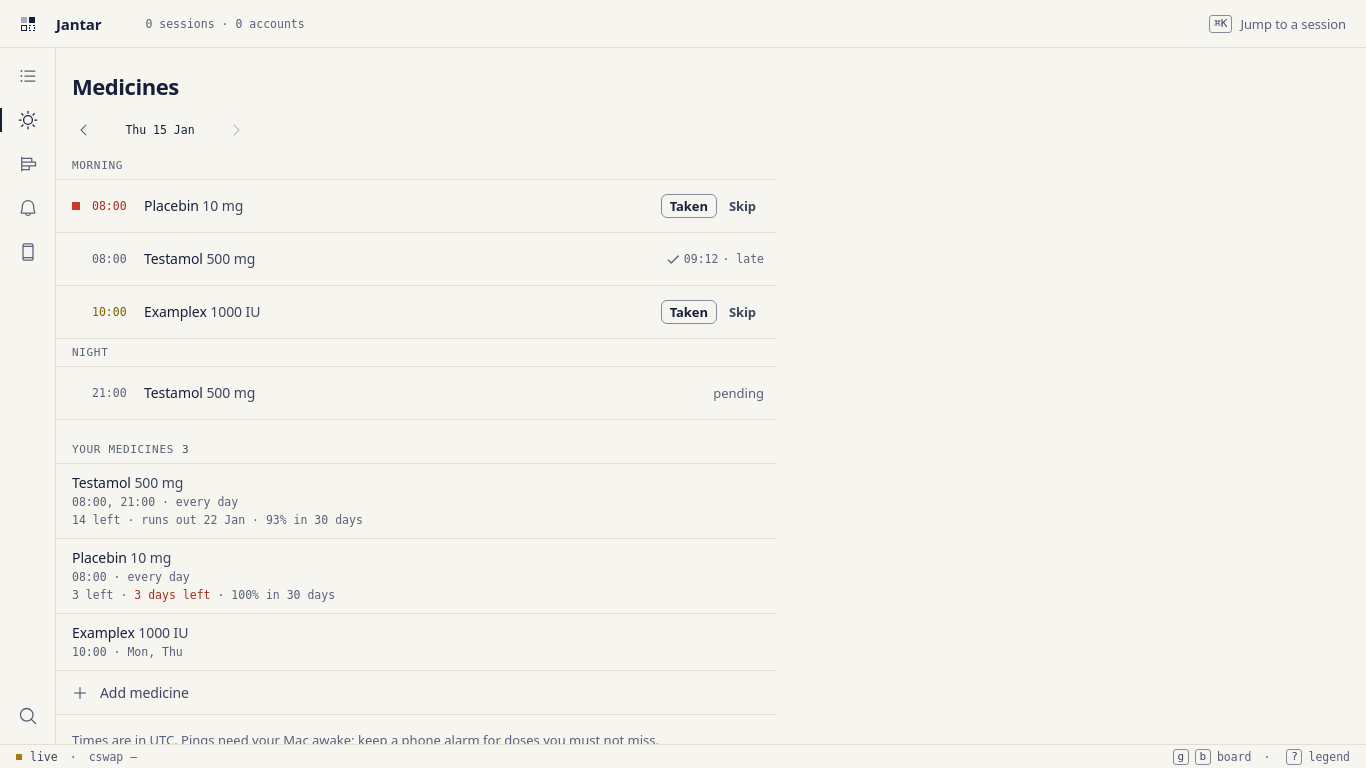
Medicines: the day › a failed write says Not saved with the reason, and the list stays
This screenshot has width=1366, height=768.
Step 1. Click the button with aria-label "Taken: Examplex 1000 IU at 10:00" → {"x": 689, "y": 312}, box [661, 300, 717, 324]
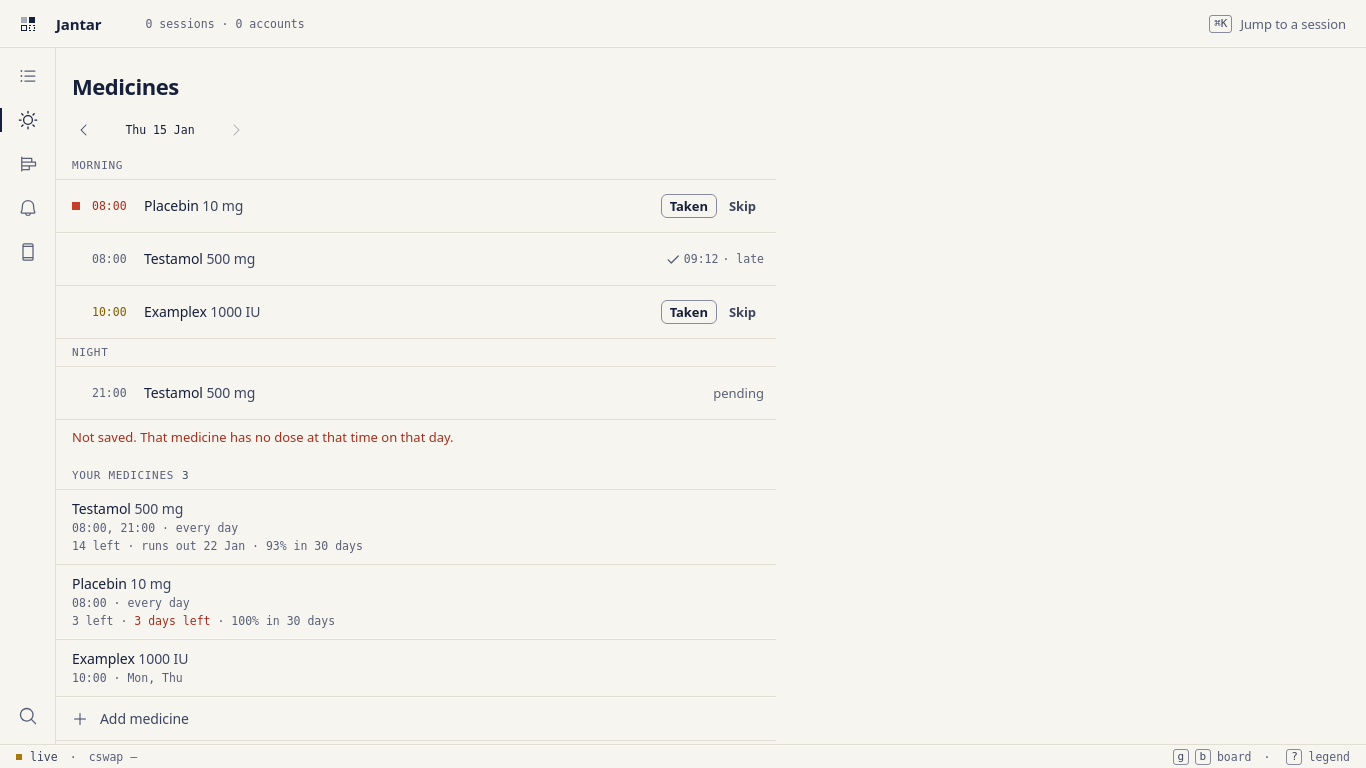
Expected: the message "Not saved. That medicine has no dose at that time on that day." is shown, [72, 428, 454, 446]
